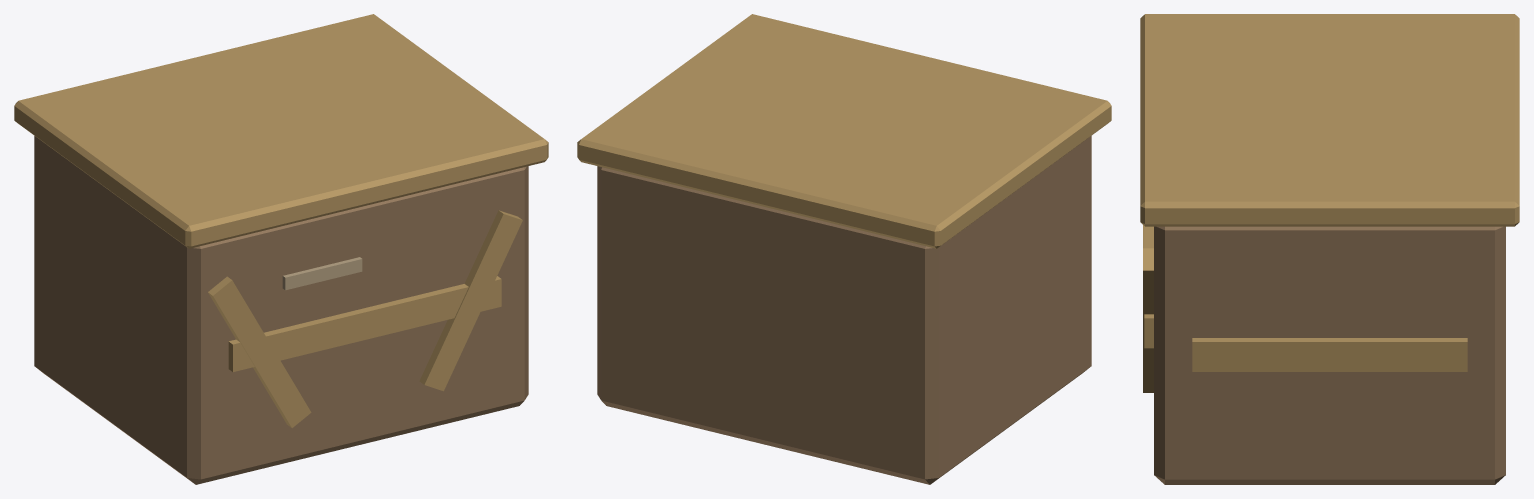
Rendered from ENV_SupplyCrate.glb.
3 views of the same model, side by side, from view 1: azimuth 30°, elevation 25°; view 2: azimuth 150°, elevation 25°; view 3: azimuth 270°, elevation 25° (orthographic). The views are drawn at different scales.
Parts seen in each view (by area): view 1: Crate_Body, Crate_Top, Crate_FrontBand, Crate_Brace_Right, Crate_Brace_Left, Crate_Wear; view 2: Crate_Body, Crate_Top; view 3: Crate_Body, Crate_Top, Crate_SideBand, Crate_Brace_Right, Crate_FrontBand.
Part boxes in pixels (<box>): Crate_Body: <box>34,136,528,484</box>; Crate_Top: <box>14,14,548,248</box>; Crate_FrontBand: <box>228,276,501,371</box>; Crate_Brace_Right: <box>419,210,522,391</box>; Crate_Brace_Left: <box>208,276,311,427</box>; Crate_Wear: <box>282,257,362,290</box>; Crate_Body: <box>597,136,1091,484</box>; Crate_Top: <box>577,14,1111,248</box>; Crate_Body: <box>1154,226,1505,484</box>; Crate_Top: <box>1140,14,1519,226</box>; Crate_SideBand: <box>1192,338,1467,371</box>; Crate_Brace_Right: <box>1143,248,1153,392</box>; Crate_FrontBand: <box>1144,226,1153,348</box>.
Bounding box in the file's own units: 1.65 × 1.17 × 1.38.
